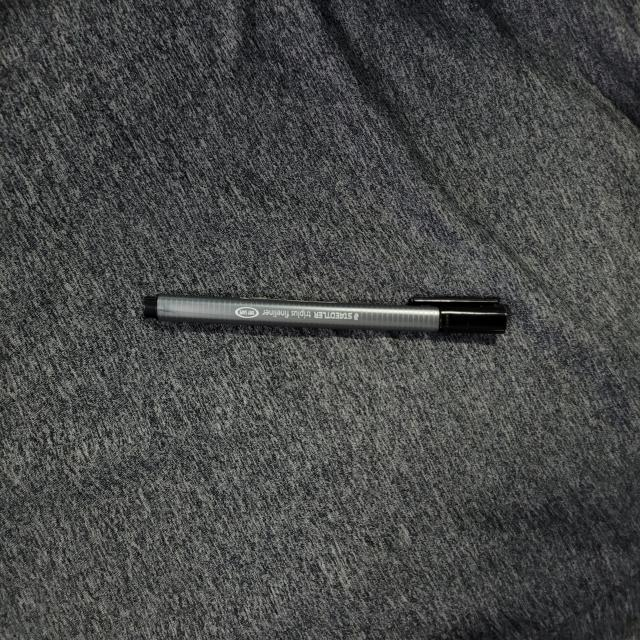caneta: (137, 265, 529, 360)
